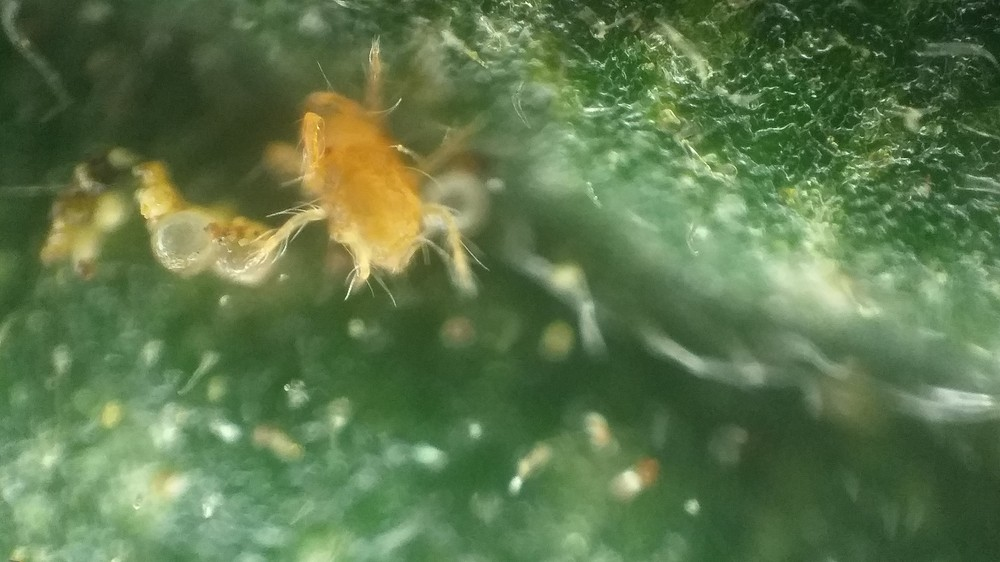Aracnido Rojo: (241, 41, 510, 314)
